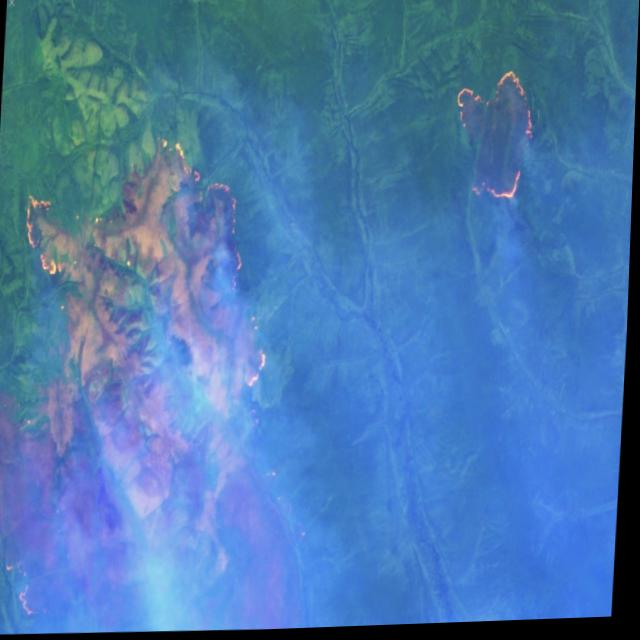fire: (0, 124, 289, 639), (448, 63, 542, 211)
